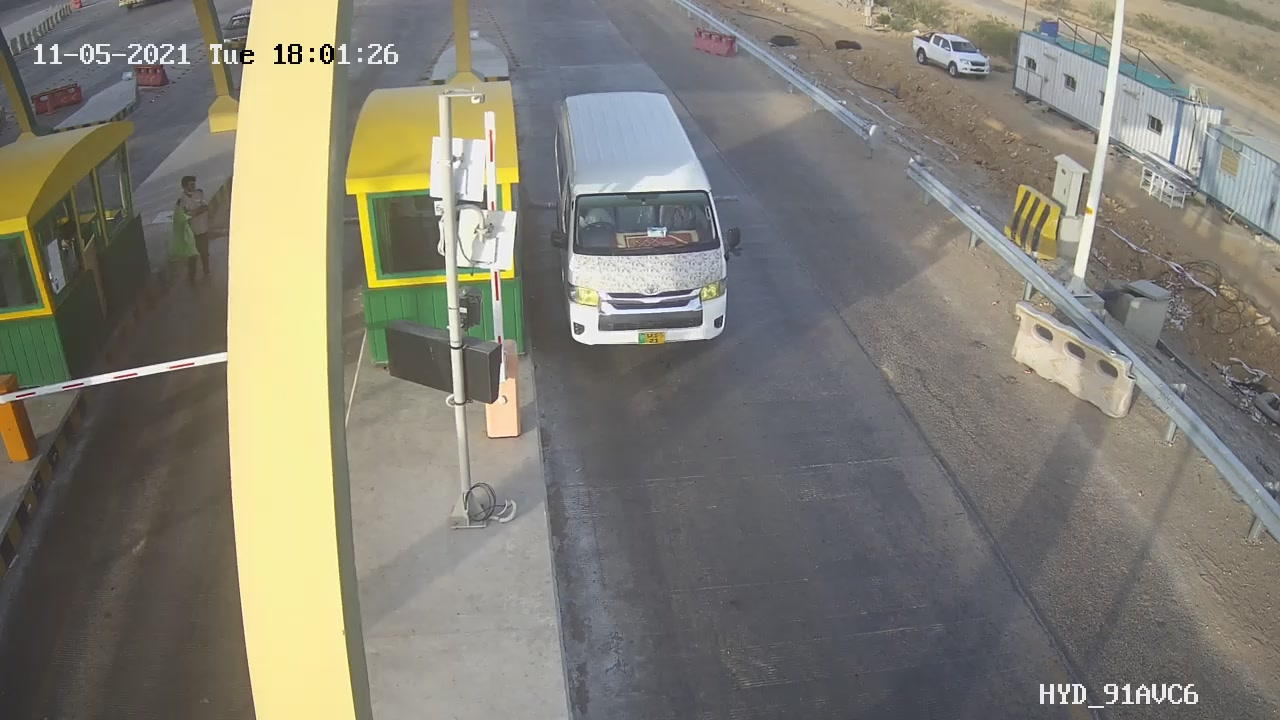F2: (538, 90, 750, 354)
